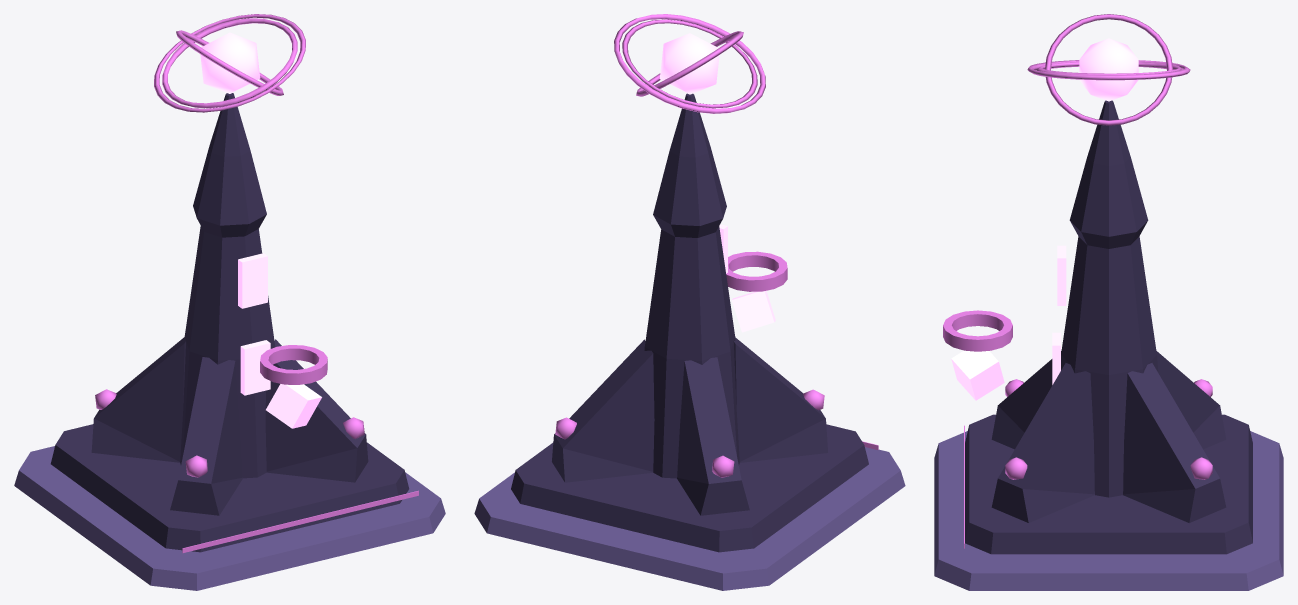
File: PlasmaPylonDropper_Roblox.fbx
The picture shows the model from 3 angles, left to right: view 1: azimuth 30°, elevation 25°; view 2: azimuth 150°, elevation 25°; view 3: azimuth 270°, elevation 25°; orthographic projection. The views are drawn at different scales.
Parts seen in each view (by area): view 1: DarkPlate, SteelPlate, AccentNeon, CoreGlow, Ore; view 2: DarkPlate, SteelPlate, AccentNeon, CoreGlow, Ore; view 3: DarkPlate, SteelPlate, AccentNeon, CoreGlow, Ore.
Boxes of the visible parts, x1,y1,x2,y2 form: DarkPlate: (50,93,409,552); SteelPlate: (14,446,445,590); AccentNeon: (95,14,418,553); CoreGlow: (200,32,270,395); Ore: (266,384,321,428); DarkPlate: (511,93,868,552); SteelPlate: (474,447,905,590); AccentNeon: (555,14,878,477); CoreGlow: (659,33,727,273); Ore: (732,290,775,332); DarkPlate: (965,100,1252,554); SteelPlate: (934,431,1283,590); AccentNeon: (943,14,1212,548); CoreGlow: (1052,38,1138,384); Ore: (951,350,1004,400).
Bounding box in the file's own units: 800 × 1266 × 800.
